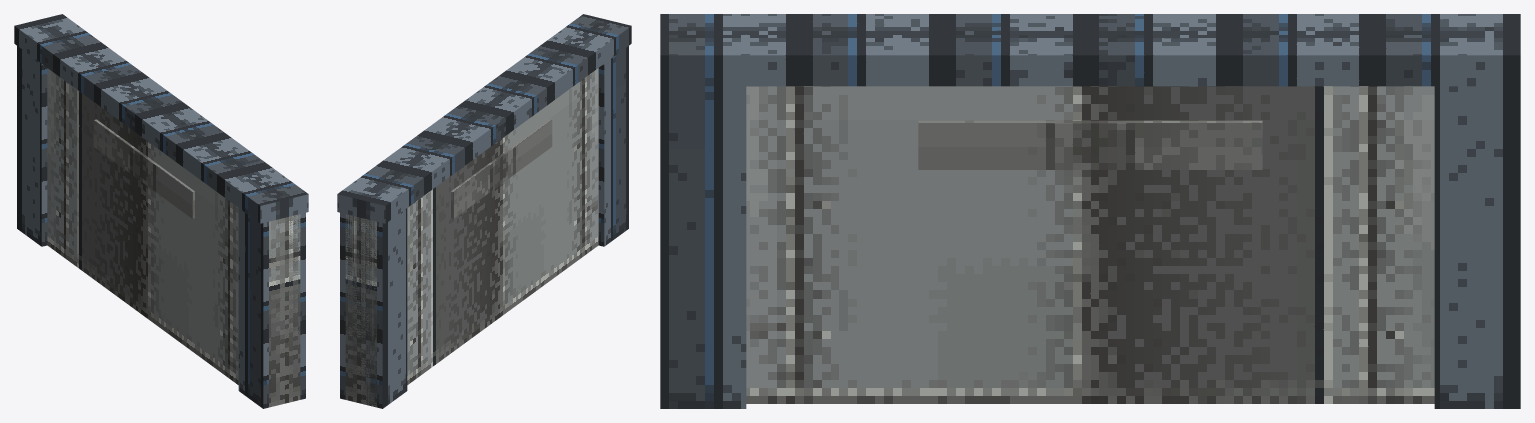
Rendered from sp_lane_screen.glb.
The picture shows the model from 3 angles, left to right: view 1: azimuth 30°, elevation 25°; view 2: azimuth 150°, elevation 25°; view 3: azimuth 270°, elevation 25°; orthographic projection. The views are drawn at different scales.
Visible parts, largest first — view 1: screen_panel, screen_cap, screen_post_-1, screen_post_1, screen_slot; view 2: screen_panel, screen_cap, screen_post_1, screen_post_-1, screen_slot; view 3: screen_panel, screen_cap, screen_post_-1, screen_post_1, screen_slot.
Part boxes in pixels (x1=…): screen_panel: x1=47, y1=68, x2=300, y2=407; screen_cap: x1=14, y1=14, x2=308, y2=223; screen_post_-1: x1=238, y1=177, x2=305, y2=408; screen_post_1: x1=17, y1=14, x2=83, y2=246; screen_slot: x1=93, y1=119, x2=194, y2=218; screen_panel: x1=345, y1=68, x2=598, y2=407; screen_cap: x1=337, y1=14, x2=631, y2=223; screen_post_1: x1=340, y1=177, x2=407, y2=408; screen_post_-1: x1=562, y1=14, x2=628, y2=246; screen_slot: x1=451, y1=119, x2=552, y2=218; screen_panel: x1=746, y1=86, x2=1434, y2=403; screen_cap: x1=660, y1=14, x2=1520, y2=86; screen_post_-1: x1=660, y1=16, x2=746, y2=408; screen_post_1: x1=1434, y1=16, x2=1520, y2=408; screen_slot: x1=918, y1=120, x2=1262, y2=169.
Size of the model in its own units: 0.34 by 1.37 by 3.
Materials: 3 (3 with a texture image).
